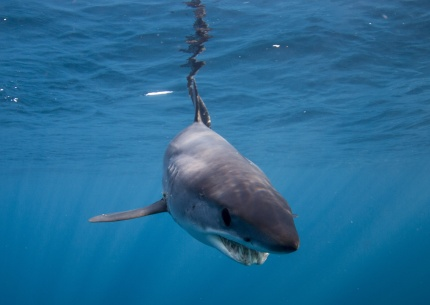Mako: (87, 81, 308, 273)
